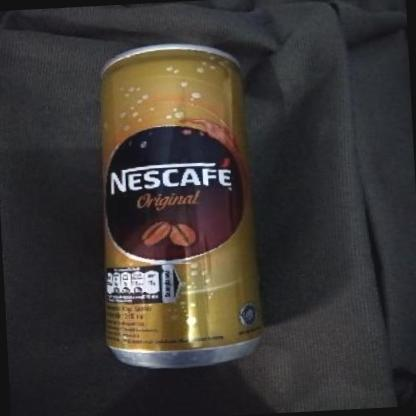alumunium_can: (88, 36, 269, 370)
